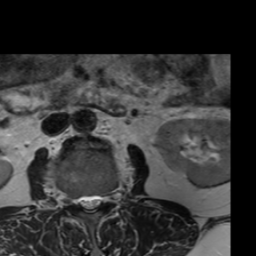CCS_stenosis: (86, 189, 93, 217)
LFS_normal: (102, 187, 110, 209)
LLS_normal: (93, 188, 101, 214)
RFS_stenosis: (68, 188, 77, 212)
RLS_normal: (77, 190, 86, 213)
